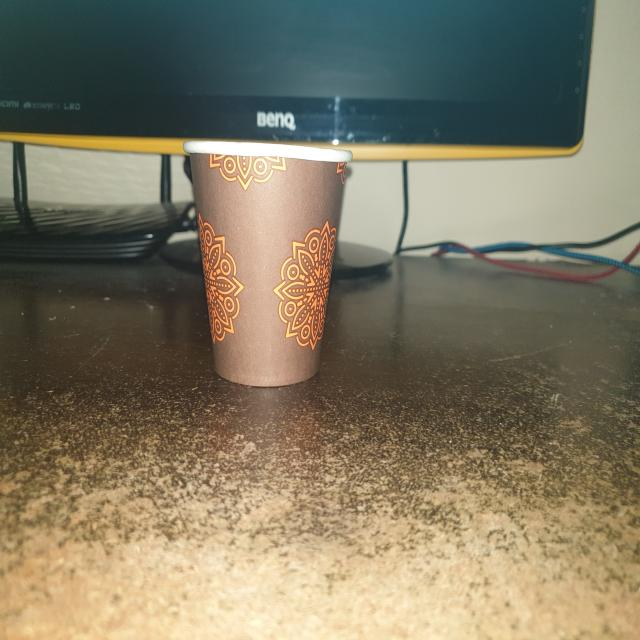cups: (173, 124, 359, 399)
